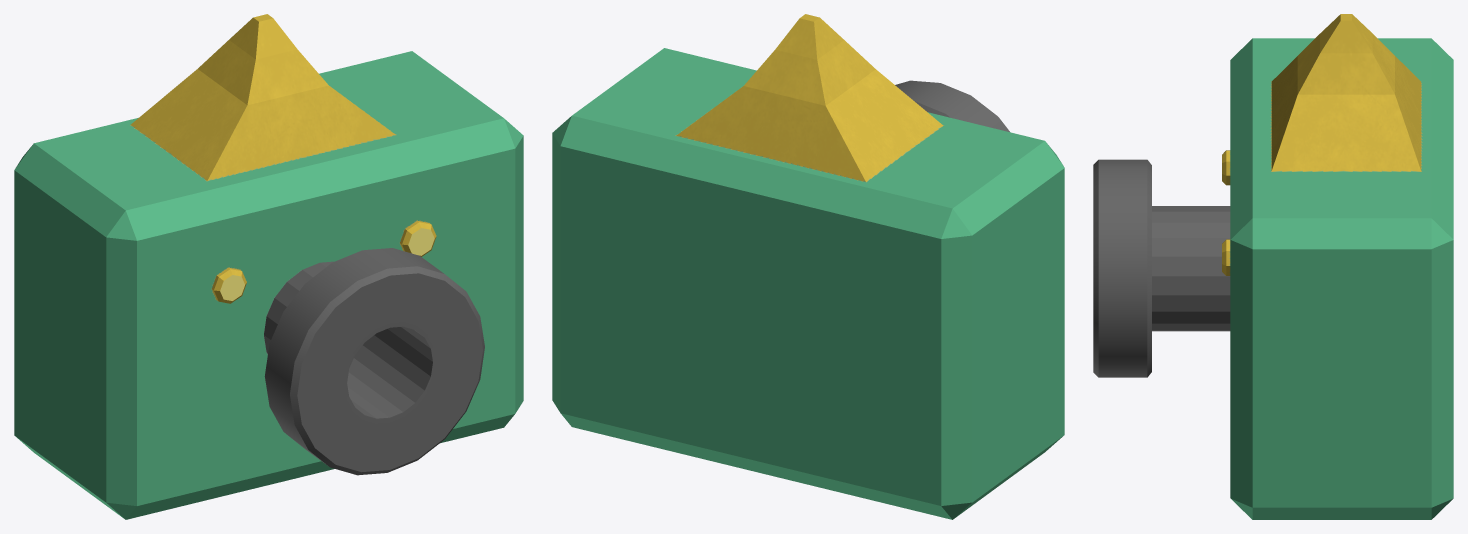
Rendered from Camera.fbx.
3 views of the same model, side by side, from view 1: azimuth 30°, elevation 25°; view 2: azimuth 150°, elevation 25°; view 3: azimuth 270°, elevation 25° (orthographic). The views are drawn at different scales.
Visible parts, largest first — view 1: cameraboss; view 2: cameraboss; view 3: cameraboss.
Boxes of the visible parts, x1,y1,x2,y2 form: cameraboss: [14, 14, 523, 519]; cameraboss: [552, 14, 1064, 519]; cameraboss: [1093, 14, 1453, 519].
Size of the model in its own units: 26.22 by 25.3 by 20.11.
Materials: 3 (1 with a texture image).
